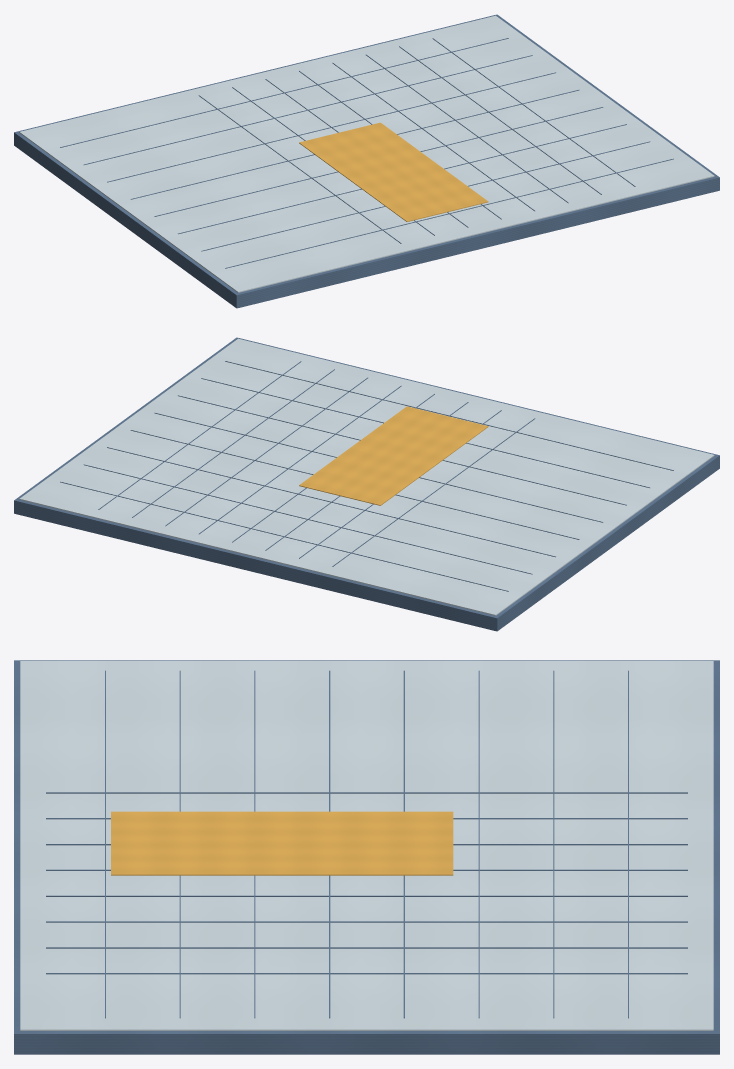
Rendered from atlas100-s056-a07.lod1.glb.
3 renders of one model, top to bottom at view 1: azimuth 30°, elevation 25°; view 2: azimuth 150°, elevation 25°; view 3: azimuth 270°, elevation 25°, orthographic. The views are drawn at different scales.
Parts seen in each view (by area): view 1: atlas100-s056-a07:part-001, atlas100-s056-a07:part-000, atlas100-s056-a07:part-021, atlas100-s056-a07:part-015, atlas100-s056-a07:part-014, atlas100-s056-a07:part-013, atlas100-s056-a07:part-020, atlas100-s056-a07:part-019, atlas100-s056-a07:part-017, atlas100-s056-a07:part-016, atlas100-s056-a07:part-018; view 2: atlas100-s056-a07:part-001, atlas100-s056-a07:part-000, atlas100-s056-a07:part-021, atlas100-s056-a07:part-014, atlas100-s056-a07:part-013, atlas100-s056-a07:part-020, atlas100-s056-a07:part-015, atlas100-s056-a07:part-016, atlas100-s056-a07:part-019, atlas100-s056-a07:part-018, atlas100-s056-a07:part-017; view 3: atlas100-s056-a07:part-001, atlas100-s056-a07:part-000, atlas100-s056-a07:part-021, atlas100-s056-a07:part-005, atlas100-s056-a07:part-009, atlas100-s056-a07:part-010, atlas100-s056-a07:part-011, atlas100-s056-a07:part-012, atlas100-s056-a07:part-014, atlas100-s056-a07:part-015.
Part boxes in pixels (x1,y1,x2,y2): atlas100-s056-a07:part-001: (19, 15, 714, 292); atlas100-s056-a07:part-000: (14, 14, 719, 308); atlas100-s056-a07:part-021: (299, 122, 488, 221); atlas100-s056-a07:part-015: (107, 72, 555, 182); atlas100-s056-a07:part-014: (84, 55, 532, 164); atlas100-s056-a07:part-013: (60, 38, 508, 147); atlas100-s056-a07:part-020: (225, 158, 673, 268); atlas100-s056-a07:part-019: (201, 141, 650, 251); atlas100-s056-a07:part-017: (154, 107, 603, 216); atlas100-s056-a07:part-016: (130, 89, 579, 199); atlas100-s056-a07:part-018: (178, 124, 626, 234); atlas100-s056-a07:part-001: (19, 338, 714, 615); atlas100-s056-a07:part-000: (14, 337, 719, 631); atlas100-s056-a07:part-021: (299, 406, 488, 505); atlas100-s056-a07:part-014: (83, 464, 532, 574); atlas100-s056-a07:part-013: (60, 481, 508, 591); atlas100-s056-a07:part-020: (225, 361, 673, 470); atlas100-s056-a07:part-015: (107, 447, 555, 557); atlas100-s056-a07:part-016: (130, 430, 579, 539); atlas100-s056-a07:part-019: (201, 378, 649, 487); atlas100-s056-a07:part-018: (178, 395, 626, 505); atlas100-s056-a07:part-017: (154, 412, 603, 522); atlas100-s056-a07:part-001: (20, 661, 713, 1030); atlas100-s056-a07:part-000: (14, 660, 719, 1054); atlas100-s056-a07:part-021: (111, 811, 453, 875); atlas100-s056-a07:part-005: (46, 792, 687, 793); atlas100-s056-a07:part-009: (46, 895, 687, 896); atlas100-s056-a07:part-010: (46, 921, 687, 922); atlas100-s056-a07:part-011: (46, 947, 687, 948); atlas100-s056-a07:part-012: (46, 973, 687, 974); atlas100-s056-a07:part-014: (553, 670, 554, 1018); atlas100-s056-a07:part-015: (478, 670, 479, 1018).
Bounding box in the file's own units: 13.02 × 0.404 × 10.4.
3 materials, 3 textured.
